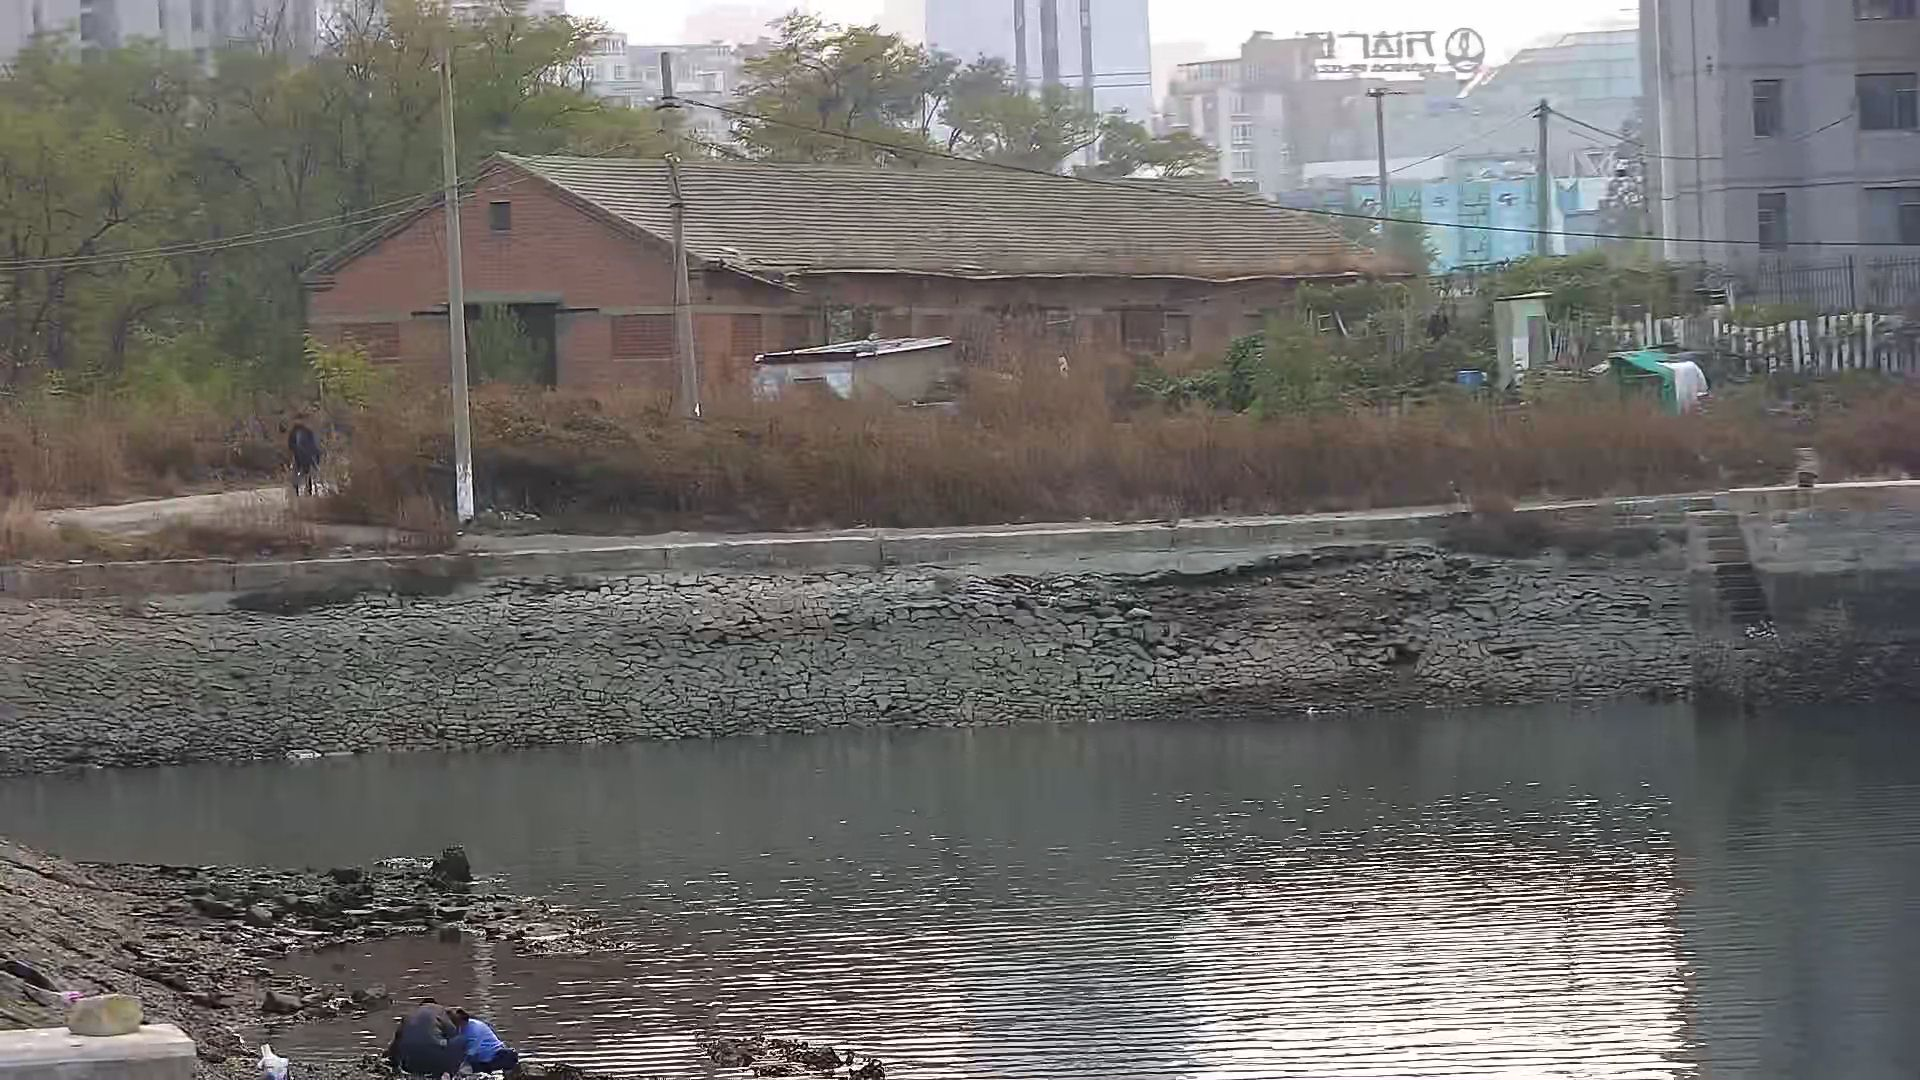rubbish: (687, 1007, 903, 1080)
